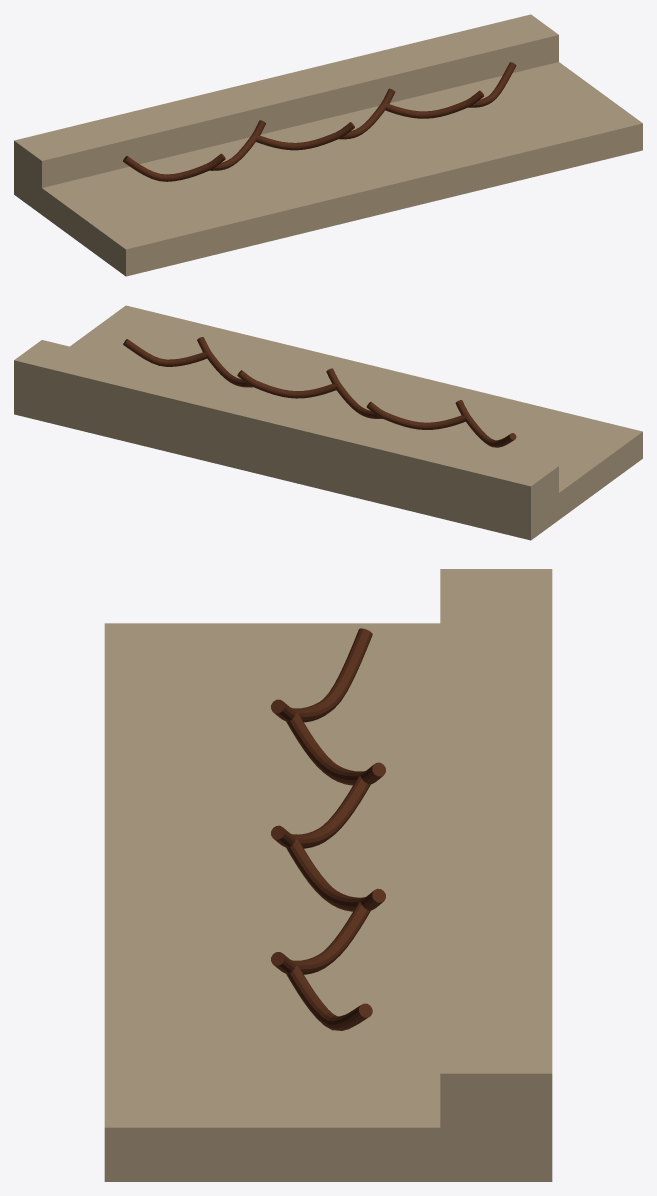
3 views of the same model, one above another, from view 1: azimuth 30°, elevation 25°; view 2: azimuth 150°, elevation 25°; view 3: azimuth 270°, elevation 25° (orthographic). The views are drawn at different scales.
Visible parts, largest first — view 1: Sediment cutaway | schematic, One uniserial six-segment trace | schematic; view 2: Sediment cutaway | schematic, One uniserial six-segment trace | schematic; view 3: Sediment cutaway | schematic, One uniserial six-segment trace | schematic.
Part boxes in pixels (left/top/right/bottom): Sediment cutaway | schematic: left=14, top=14, right=642, bottom=276; One uniserial six-segment trace | schematic: left=123, top=62, right=516, bottom=181; Sediment cutaway | schematic: left=14, top=305, right=642, bottom=540; One uniserial six-segment trace | schematic: left=123, top=337, right=516, bottom=447; Sediment cutaway | schematic: left=104, top=569, right=552, bottom=1181; One uniserial six-segment trace | schematic: left=271, top=628, right=385, bottom=1030.
Size of the model in its own units: 0.16 by 0.0168 by 0.06.
